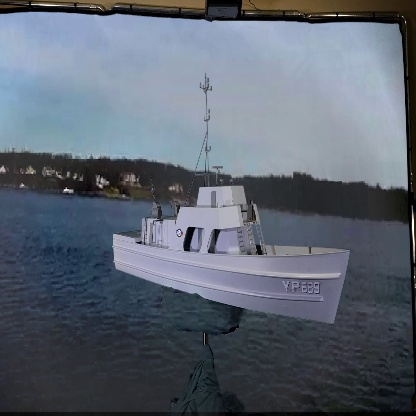YP689: (111, 75, 353, 325)
